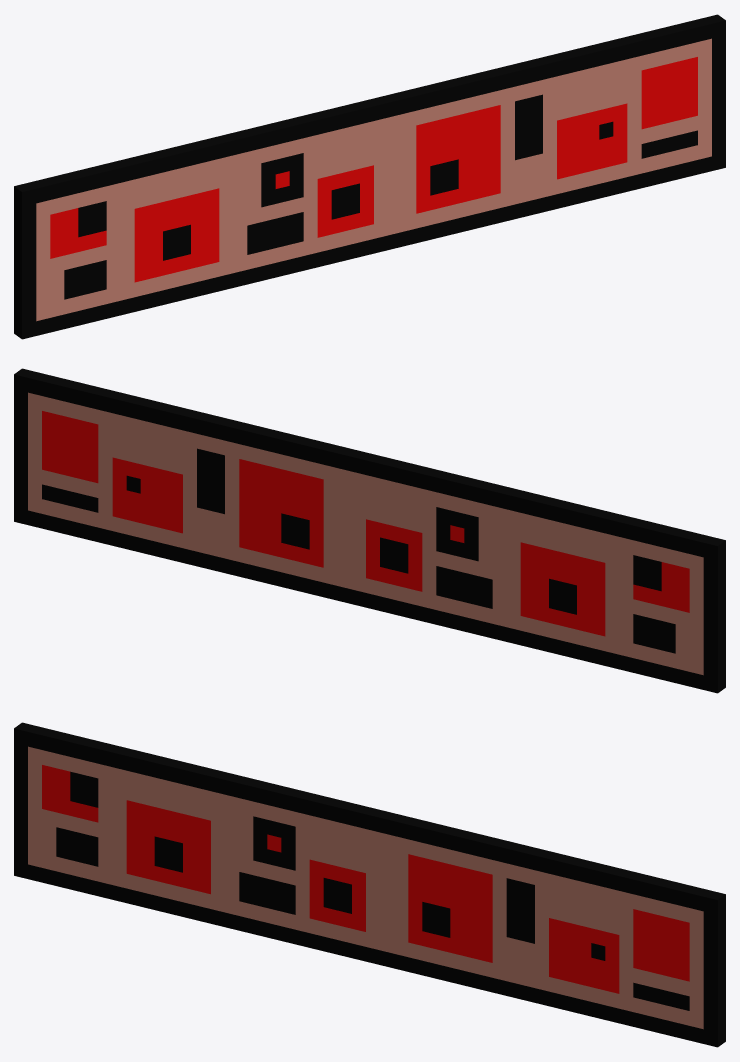
File: restaurant-0-painting.obj
3 renders of one model, top to bottom at view 1: azimuth 30°, elevation 25°; view 2: azimuth 150°, elevation 25°; view 3: azimuth 330°, elevation 25°, orthographic.
Parts seen in each view (by area): view 1: painting; view 2: painting; view 3: painting.
Part boxes in pixels (bbox=[...]): painting: bbox=[14, 14, 725, 339]; painting: bbox=[14, 368, 725, 693]; painting: bbox=[14, 722, 725, 1047].
Size of the model in its own units: 5 by 1 by 0.1.
Materials: 1 (1 with a texture image).
